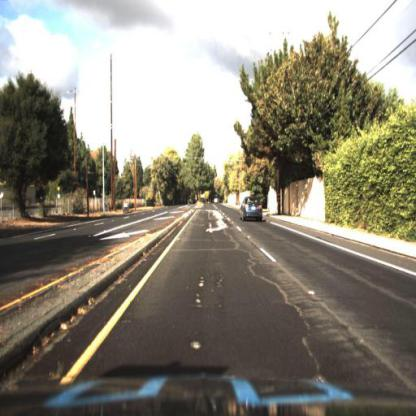car: (239, 196, 266, 225)
